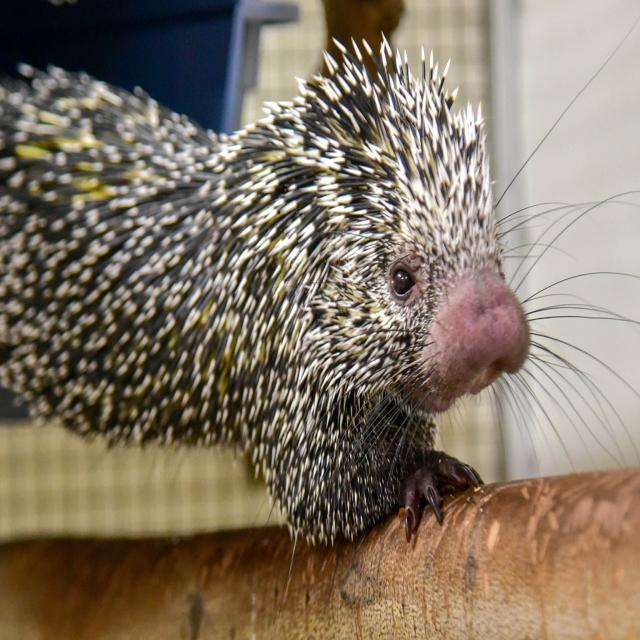Porcupine: (0, 64, 533, 526)
